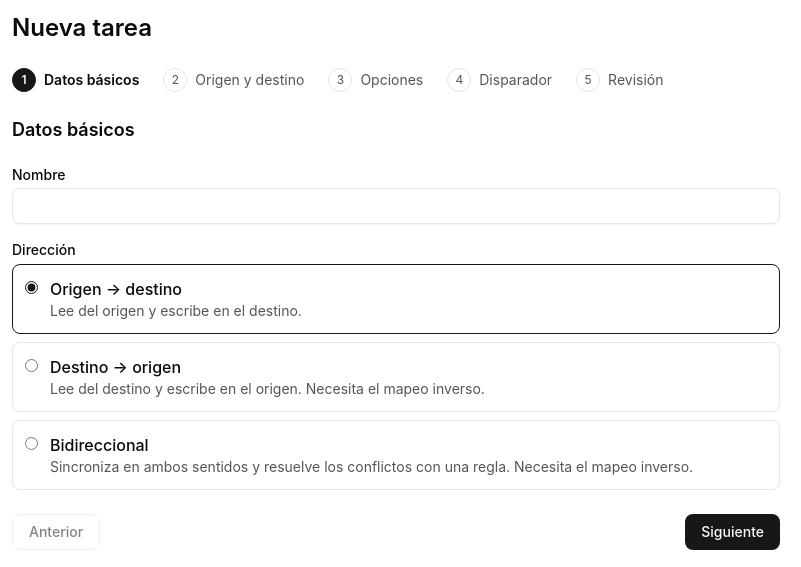
Test: JobWizard › goes back keeping what was entered
Type "Mi tarea" into the field labelled "Nombre".
click(396, 206); type("Mi tarea")  # box 12,188 -> 780,224
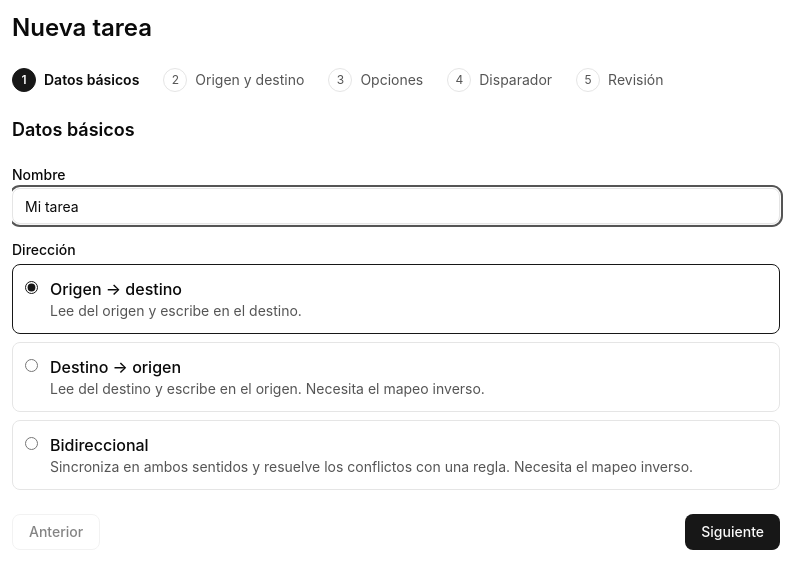
Click the button "Siguiente".
click(733, 532)  # box 685,514 -> 780,550
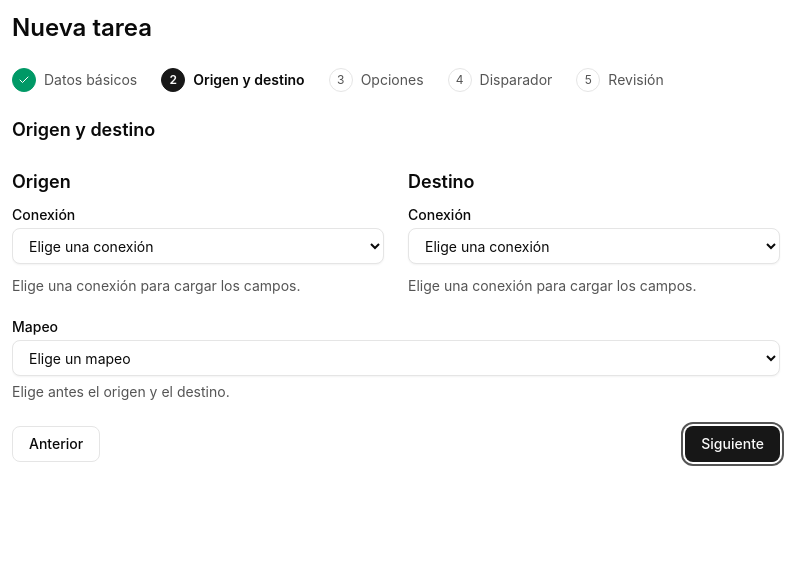
Click the button "Anterior".
click(56, 444)  # box 12,426 -> 100,462
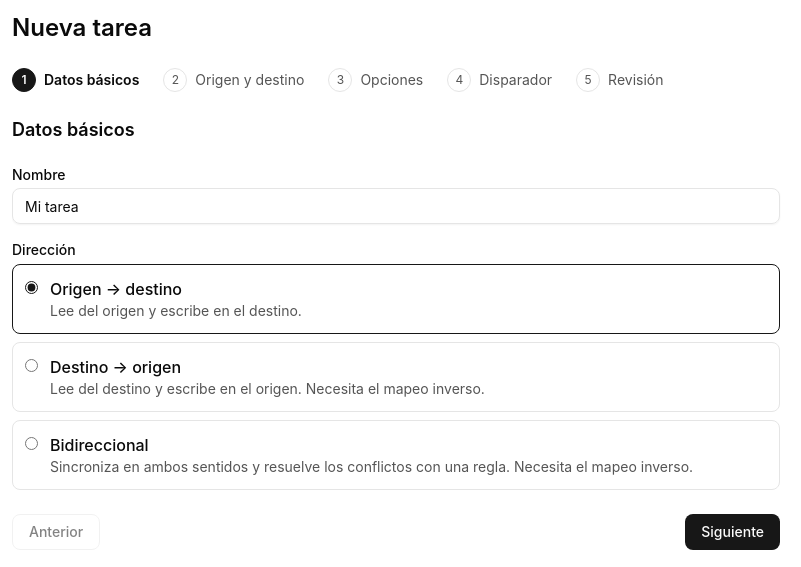
Check: the field labelled "Nombre" holds "Mi tarea", box 12,188 -> 780,224
